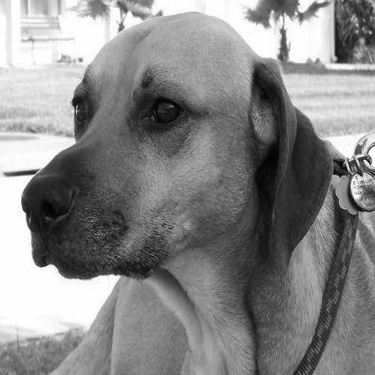dog: (18, 8, 372, 372)
